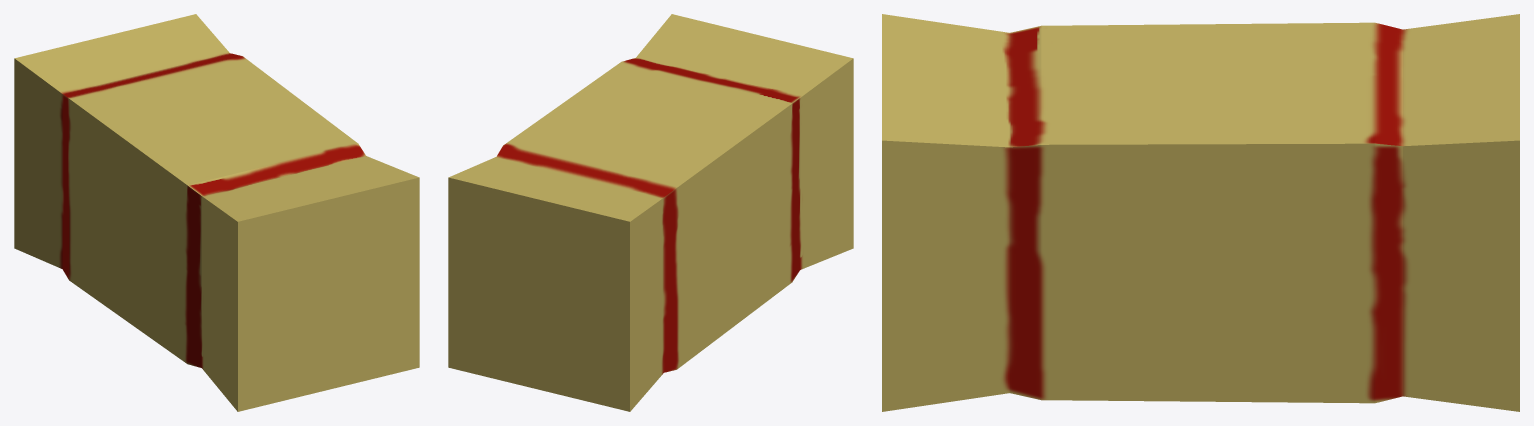
The model's file is HayBale.fbx.
3 renders of one model, left to right at view 1: azimuth 30°, elevation 25°; view 2: azimuth 150°, elevation 25°; view 3: azimuth 270°, elevation 25°, orthographic. The views are drawn at different scales.
Visible parts, largest first — view 1: Cube; view 2: Cube; view 3: Cube.
Boxes of the visible parts, x1,y1,x2,y2 form: Cube: (14,14,419,411); Cube: (448,14,853,411); Cube: (882,14,1519,411).
Bounding box in the file's own units: 200 × 200 × 426.
